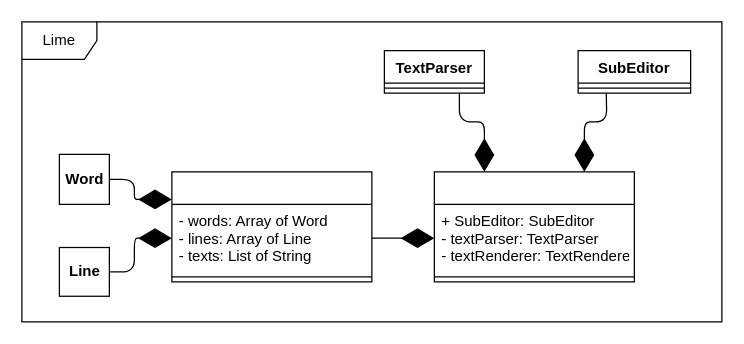
This 744x344 diagram has some shape labels left out. The shapes that lost their labels are listed below. From the top down, each one's box as (x1, y1, x2, y2) in pixels, then its label:
(171, 171, 372, 282): TextRenderer
(433, 171, 634, 282): CommonText
